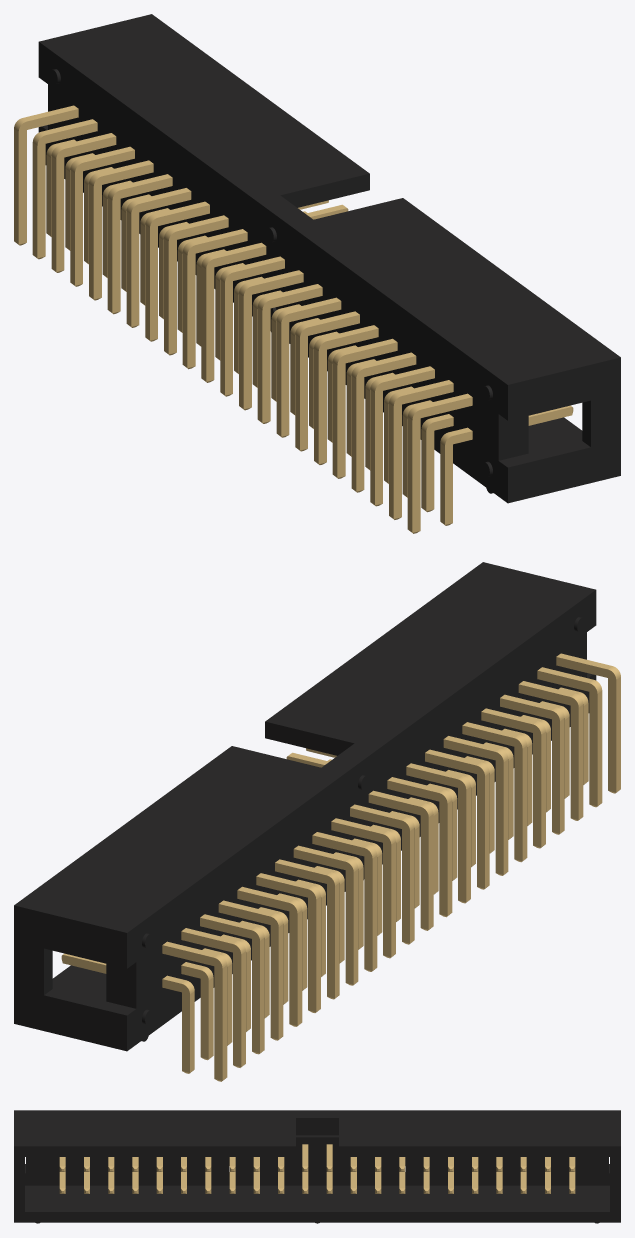
File: kc-idc-header_2x22_p2.54mm_horizontal.glb
The picture shows the model from 3 angles, top to bottom: view 1: azimuth 30°, elevation 25°; view 2: azimuth 150°, elevation 25°; view 3: azimuth 270°, elevation 25°; orthographic projection. The views are drawn at different scales.
Parts seen in each view (by area): view 1: 0_0_0_0, 0.75_0.5_0.25_0.9; view 2: 0_0_0_0, 0.75_0.5_0.25_0.9; view 3: 0_0_0_0, 0.75_0.5_0.25_0.9.
Part boxes in pixels (x1=…): 0_0_0_0: x1=38, y1=14, x2=620, y2=503; 0.75_0.5_0.25_0.9: x1=14, y1=105, x2=573, y2=533; 0_0_0_0: x1=14, y1=562, x2=596, y2=1051; 0.75_0.5_0.25_0.9: x1=61, y1=653, x2=620, y2=1081; 0_0_0_0: x1=14, y1=1110, x2=620, y2=1223; 0.75_0.5_0.25_0.9: x1=59, y1=1144, x2=575, y2=1193.
Size of the model in its own units: 1.35 by 1.21 by 6.35.
